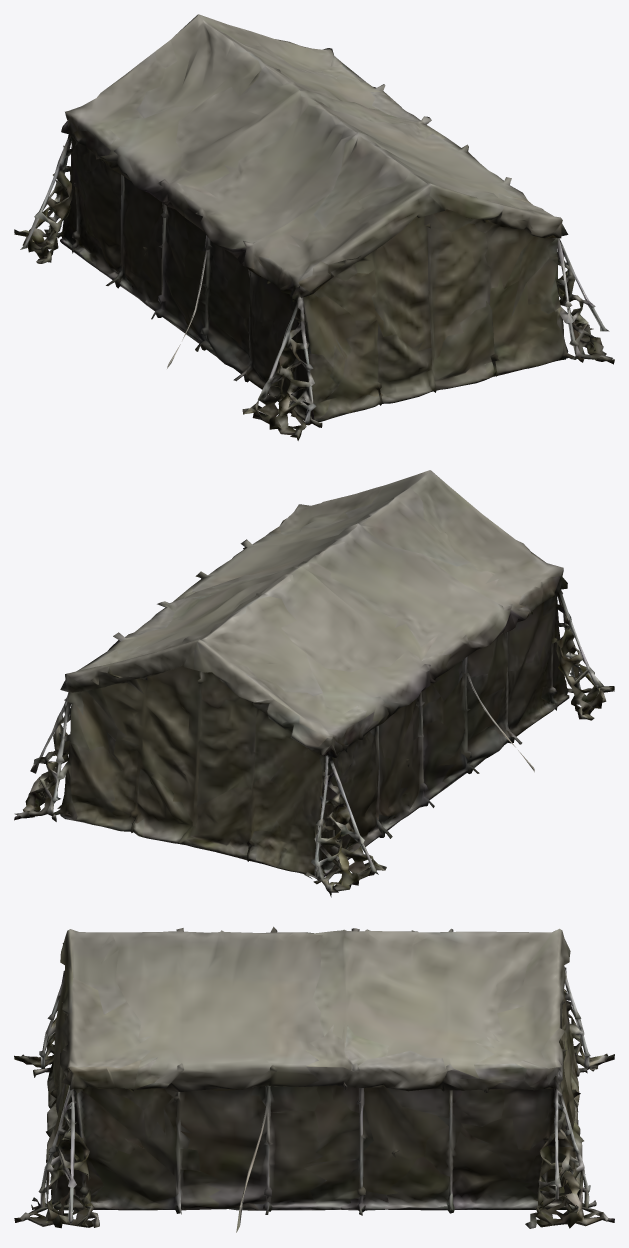
Rendered from base_tent.glb.
3 views of the same model, one above another, from view 1: azimuth 30°, elevation 25°; view 2: azimuth 150°, elevation 25°; view 3: azimuth 270°, elevation 25° (orthographic). The views are drawn at different scales.
Visible parts, largest first — view 1: tripo_node_6425a768-e500-4dc7-b96e-553eb11674fd; view 2: tripo_node_6425a768-e500-4dc7-b96e-553eb11674fd; view 3: tripo_node_6425a768-e500-4dc7-b96e-553eb11674fd.
Part boxes in pixels (left/top/right/bottom): tripo_node_6425a768-e500-4dc7-b96e-553eb11674fd: left=14, top=14, right=614, bottom=440; tripo_node_6425a768-e500-4dc7-b96e-553eb11674fd: left=14, top=470, right=614, bottom=897; tripo_node_6425a768-e500-4dc7-b96e-553eb11674fd: left=14, top=926, right=614, bottom=1232.
Size of the model in its own units: 0.7476 by 0.3968 by 1.
Materials: 1 (1 with a texture image).
